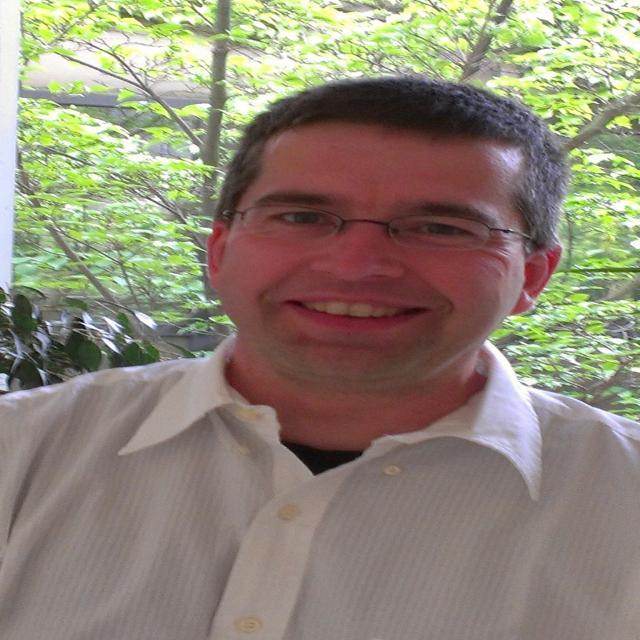Face: (220, 116, 572, 401)
